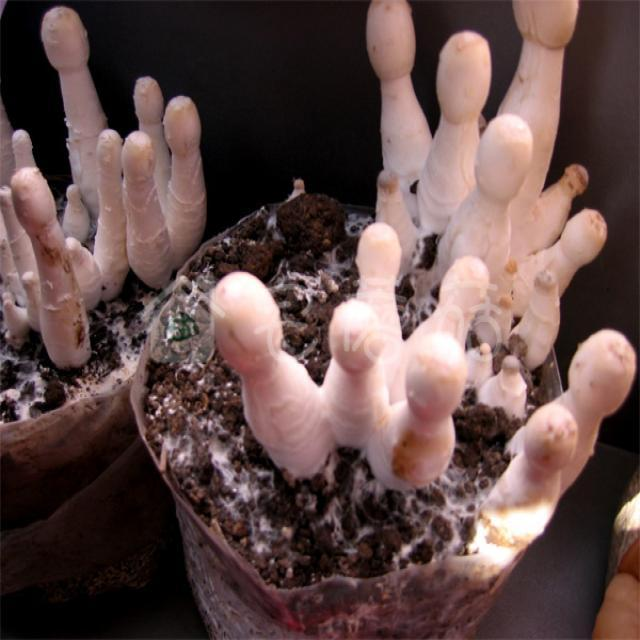Coprinus comatus: (216, 265, 323, 476), (494, 0, 577, 192), (446, 114, 534, 290), (14, 167, 88, 370), (40, 9, 115, 206), (366, 1, 435, 199), (386, 332, 466, 493), (423, 32, 493, 209), (503, 405, 578, 555), (510, 208, 606, 310), (560, 327, 636, 451), (122, 128, 178, 282), (328, 301, 386, 449), (410, 254, 492, 347), (160, 97, 209, 252), (354, 221, 403, 352), (94, 126, 127, 291)
